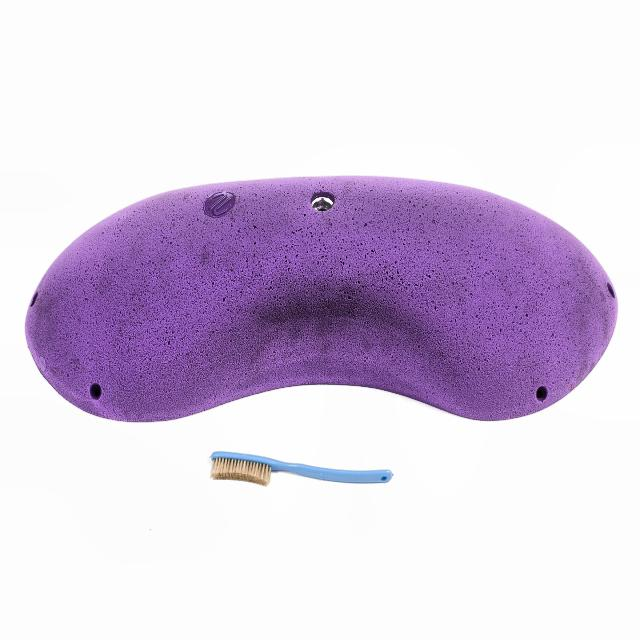Hold: (28, 171, 620, 432)
